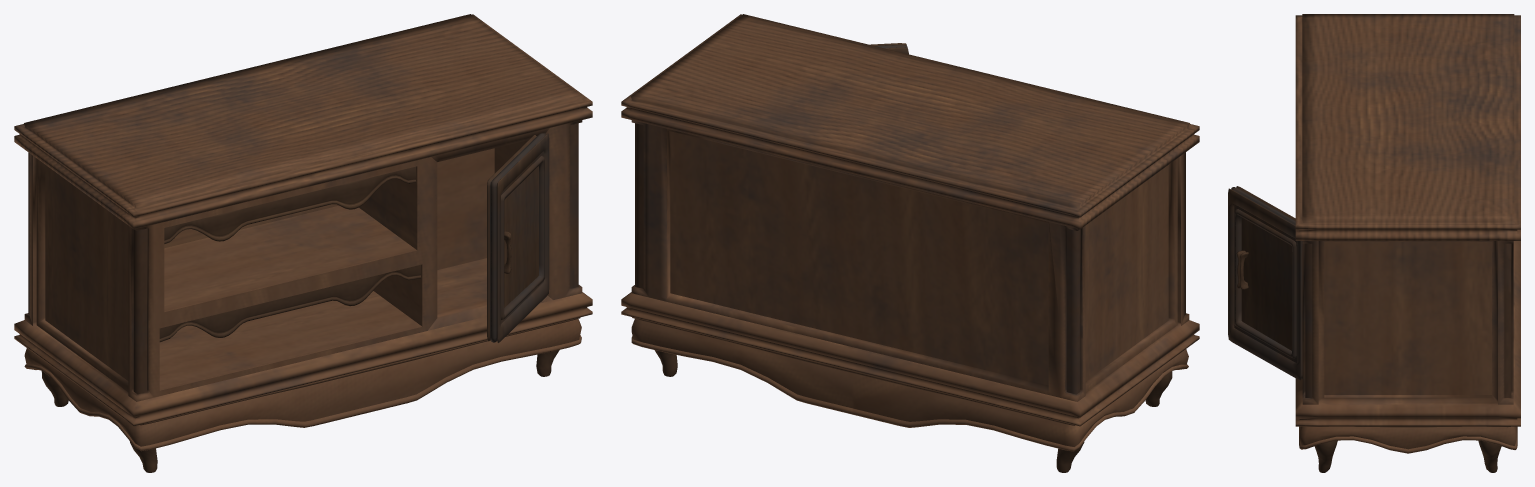
Rendered from tv_desk.fbx.
The picture shows the model from 3 angles, left to right: view 1: azimuth 30°, elevation 25°; view 2: azimuth 150°, elevation 25°; view 3: azimuth 270°, elevation 25°; orthographic projection. The views are drawn at different scales.
Visible parts, largest first — view 1: tv_desk, tv_desk_open; view 2: tv_desk; view 3: tv_desk, tv_desk_open.
Part boxes in pixels (x1=…): tv_desk: x1=14, y1=14, x2=592, y2=472; tv_desk_open: x1=487, y1=133, x2=549, y2=342; tv_desk: x1=621, y1=14, x2=1199, y2=472; tv_desk: x1=1295, y1=14, x2=1520, y2=472; tv_desk_open: x1=1228, y1=186, x2=1302, y2=380.
Size of the model in its own units: 158 by 92.17 by 92.63.
